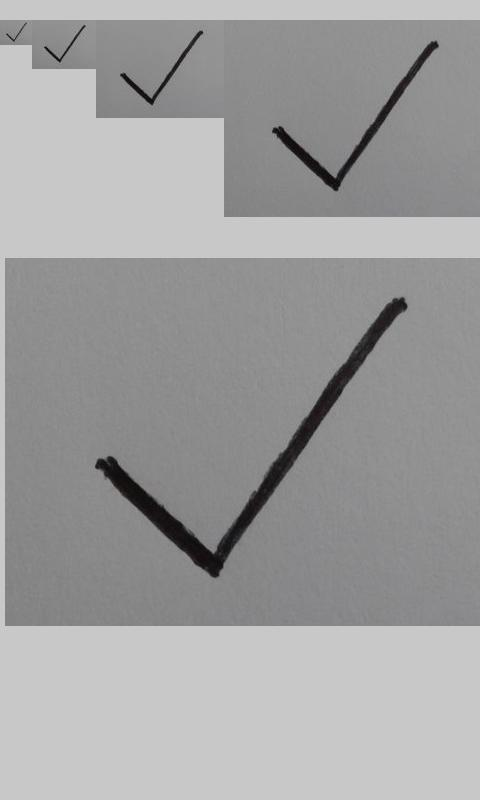check_box: (97, 297, 406, 579), (273, 41, 436, 191), (121, 31, 202, 105), (44, 25, 85, 63), (6, 23, 26, 42)
